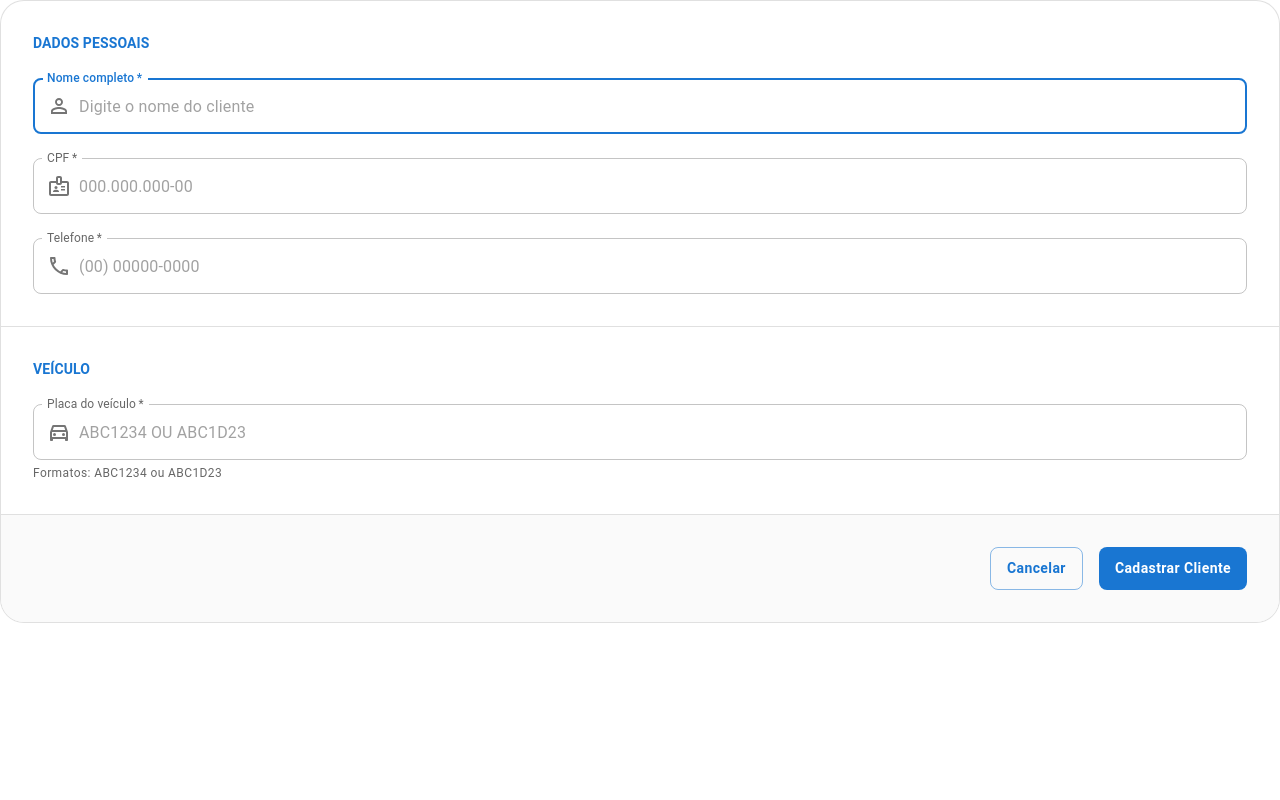
it: ClientForm › validação › deve exibir erro quando nome é muito curto
Step 1. Type "Jo" into the field with test id "client-name-input" → (663, 106), box [79, 78, 1247, 134]
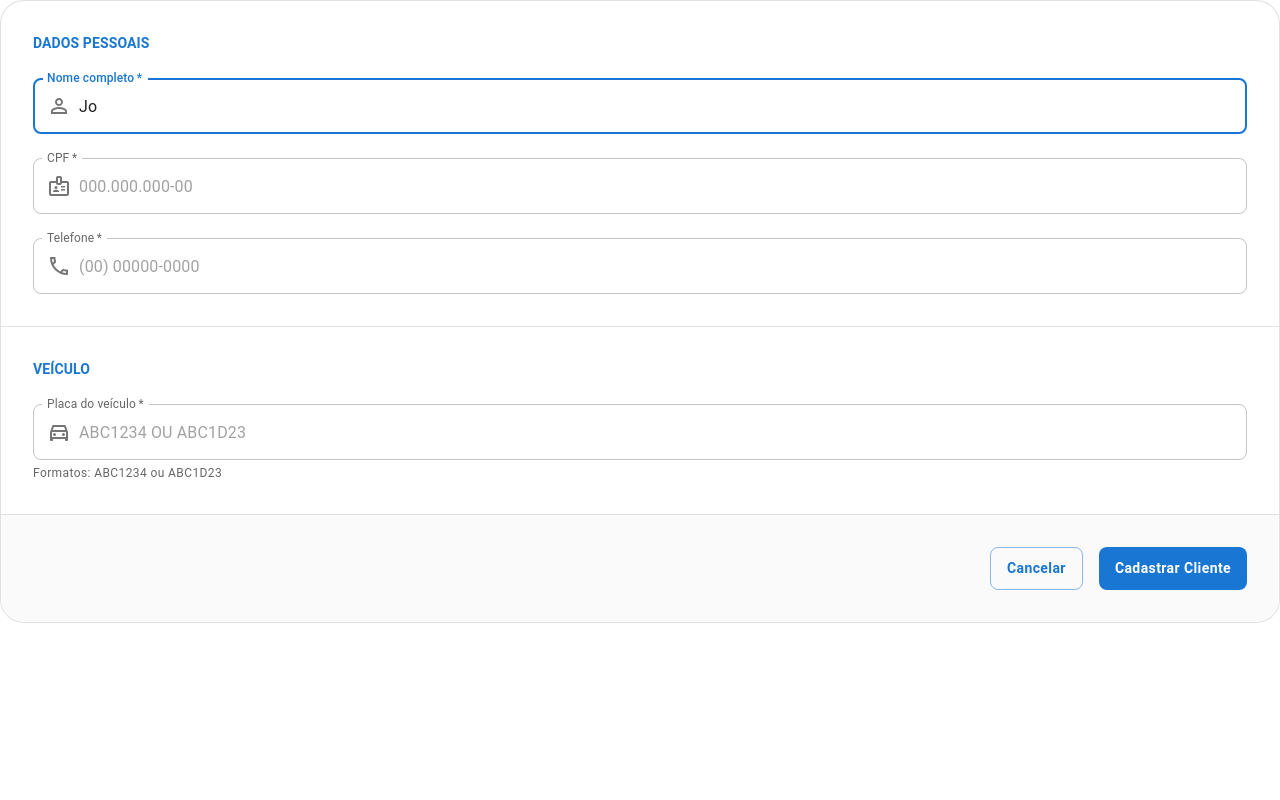
Step 2. Click the button with test id "client-form-submit-button" → click(1173, 568), box [1099, 547, 1247, 590]
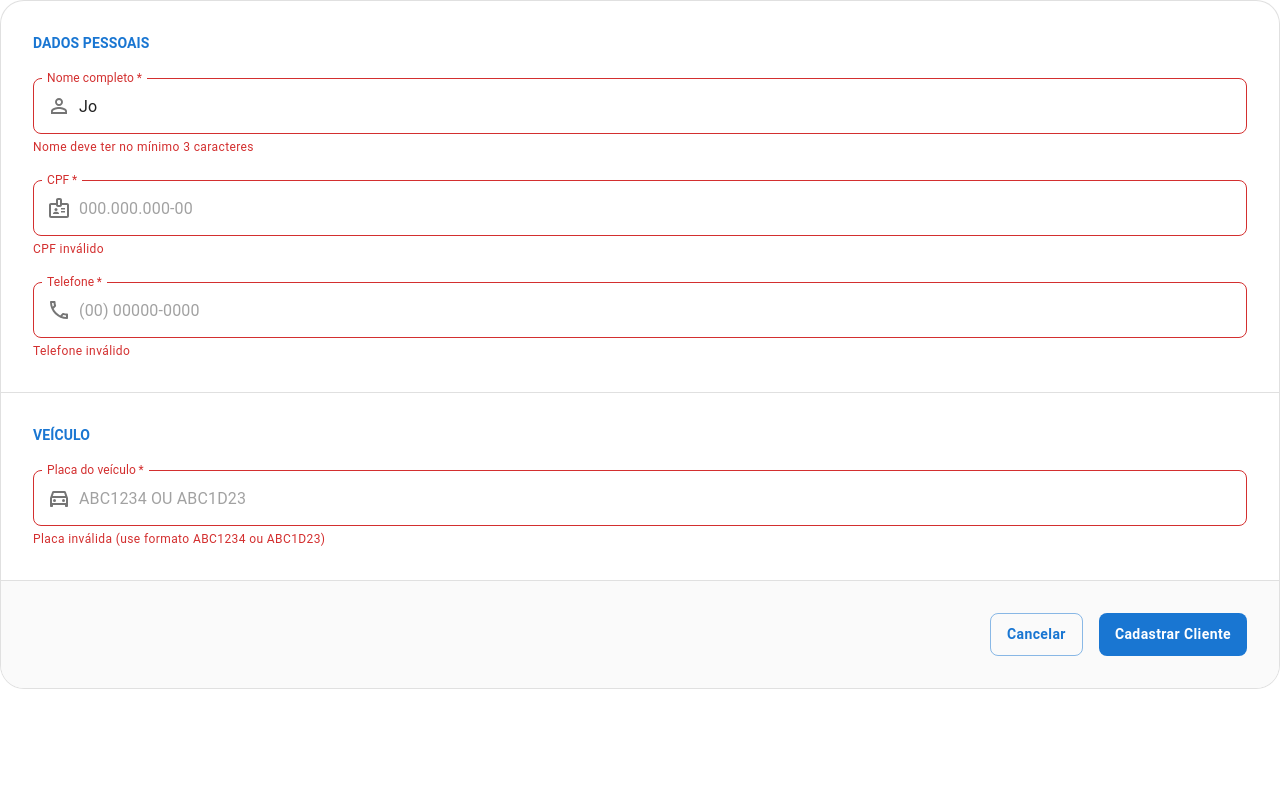
Result: the text "Nome deve ter no mínimo 3 caracteres" is shown at [33, 140, 254, 154]
